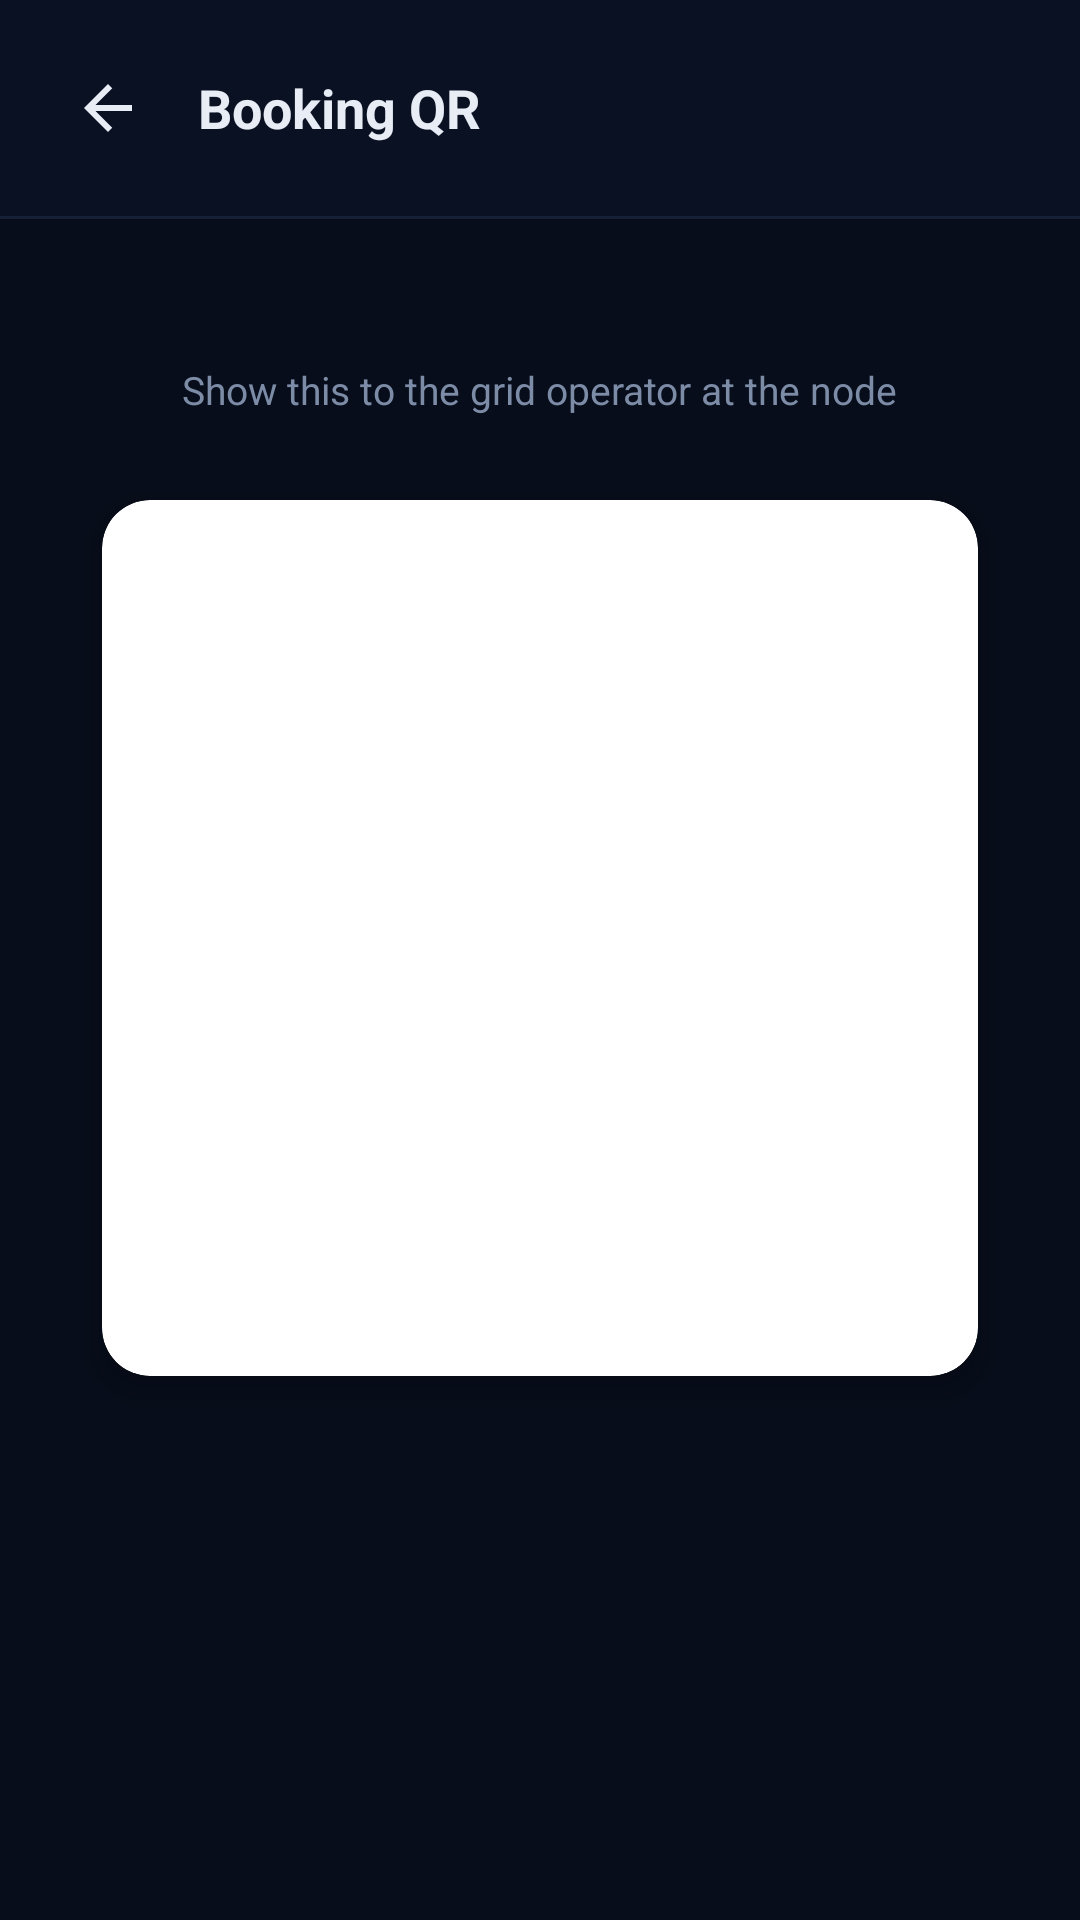

Icons on this 1080 x 1920 Android screen, each with its box as (x1, y1, x2, y2):
Back: (84, 84, 132, 132)
